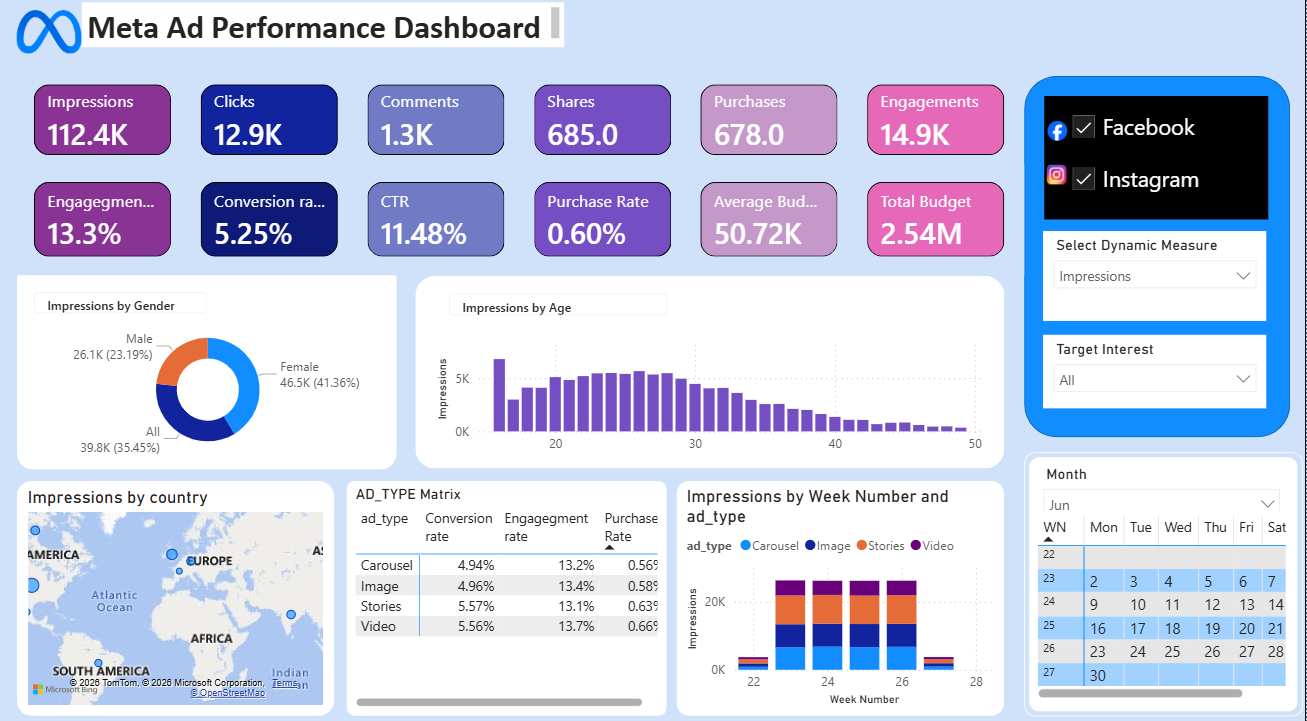

Layout of this report page (visuals, bound fields, positions):
{"tool":"powerbi","page":{"name":"Page 1","canvas":[1280,720],"ordinal":0},"visuals":[{"type":"shape","box":[1004.5,450.8,272.7,258.8],"z":0},{"type":"shape","box":[18.3,266.6,371.7,201.8],"z":1000},{"type":"textbox","box":[81.9,11,472,44],"z":2000},{"type":"image","box":[18.3,14.7,63.6,50.1],"z":3000},{"type":"shape","box":[1004.5,83.5,260.2,353.4],"z":4000},{"type":"slicer","fields":{"Values":["ads.ad_platform"]},"box":[1022.6,101.6,218.4,121],"z":5000},{"type":"cardVisual","fields":{"Data":["ad_events.Impressions","ad_events.Clicks","ad_events.Comments","ad_events.Shares","ad_events.Purchases","ad_events.Engagements"]},"box":[18.3,74.6,985.6,103.9],"z":6000},{"type":"cardVisual","fields":{"Data":["ad_events.Engagegment rate","ad_events.Conversion rate","ad_events.CTR","ad_events.Purchase Rate","ad_events.Average Budget per campaign","campaigns.Total Budget"]},"box":[18.3,170,985.6,107.6],"z":7000},{"type":"slicer","fields":{"Values":["Select Dynamic Measure.Select Dynamic Measure"]},"box":[1022.6,235.1,218.4,87.7],"z":8000},{"type":"donutChart","fields":{"Y":["ad_events.Impressions"],"Category":["ads.target_gender"]},"box":[29.3,320.4,352.2,139.4],"z":9000},{"type":"cardVisual","fields":{"Data":["ad_events.Gender Title","ad_events.Gender Title"]},"box":[18.9,277.4,203.3,55.2],"z":10000},{"type":"shape","box":[408.4,278.8,576,188.3],"z":11000},{"type":"columnChart","fields":{"Y":["ad_events.Impressions"],"Category":["users.user_age"]},"box":[424.3,333.8,544.2,127.2],"z":12000},{"type":"cardVisual","fields":{"Data":["ad_events.Age Title 1"]},"box":[424.3,278.8,248.2,56.3],"z":13000},{"type":"map","fields":{"Size":["ad_events.Impressions"],"Category":["users.country"]},"box":[18.3,479.4,310.6,229.9],"z":14000},{"type":"pivotTable","fields":{"Rows":["Calender Table.Week Number"],"Columns":["Calender Table.Day name"],"Values":["Min(Calender Table.Day Number)"]},"box":[1012.9,509.2,251.8,187.8],"z":15000},{"type":"slicer","fields":{"Values":["Calender Table.Month"]},"box":[1012.9,459.1,251.8,50.1],"z":16000},{"type":"columnChart","fields":{"Y":["ad_events.Impressions"],"Category":["Calender Table.Week Number"],"Series":["ads.ad_type"]},"box":[664,479.4,320.4,229.9],"z":17000},{"type":"pivotTable","title":"AD_TYPE Matrix","fields":{"Rows":["ads.ad_type"],"Values":["ad_events.Conversion rate","ad_events.Engagegment rate","ad_events.Purchase Rate"]},"box":[341.2,479.4,313,229.9],"z":18000},{"type":"image","box":[1025.4,116.9,20.9,19.5],"z":19000},{"type":"image","box":[1025.4,169.7,19.5,19.5],"z":20000},{"type":"slicer","fields":{"Values":["ads.target_interests"]},"box":[1022.6,336.7,218.4,72.3],"z":20001}]}

Visuals, with their boxes in screenshot pixels (x1, y1, x2, y2), scaled from the page's 1280x720 canvas onto the 1307x721 screenshot:
shape: region(1026, 451, 1304, 711)
shape: region(19, 267, 398, 469)
textbox: region(84, 11, 566, 55)
image: region(19, 15, 84, 65)
shape: region(1026, 84, 1291, 438)
slicer - ads.ad_platform: region(1044, 102, 1267, 223)
cardVisual - ad_events.Impressions x ad_events.Clicks: region(19, 75, 1025, 179)
cardVisual - ad_events.Engagegment rate x ad_events.Conversion rate: region(19, 170, 1025, 278)
slicer - Select Dynamic Measure.Select Dynamic Measure: region(1044, 235, 1267, 323)
donutChart - ad_events.Impressions x ads.target_gender: region(30, 321, 390, 460)
cardVisual - ad_events.Gender Title x ad_events.Gender Title: region(19, 278, 227, 333)
shape: region(417, 279, 1005, 468)
columnChart - ad_events.Impressions x users.user_age: region(433, 334, 989, 462)
cardVisual - ad_events.Age Title 1: region(433, 279, 687, 336)
map - ad_events.Impressions x users.country: region(19, 480, 336, 710)
pivotTable - Calender Table.Week Number x Calender Table.Day name: region(1034, 510, 1291, 698)
slicer - Calender Table.Month: region(1034, 460, 1291, 510)
columnChart - ad_events.Impressions x Calender Table.Week Number: region(678, 480, 1005, 710)
"AD_TYPE Matrix" pivotTable: region(348, 480, 668, 710)
image: region(1047, 117, 1068, 137)
image: region(1047, 170, 1067, 189)
slicer - ads.target_interests: region(1044, 337, 1267, 410)
